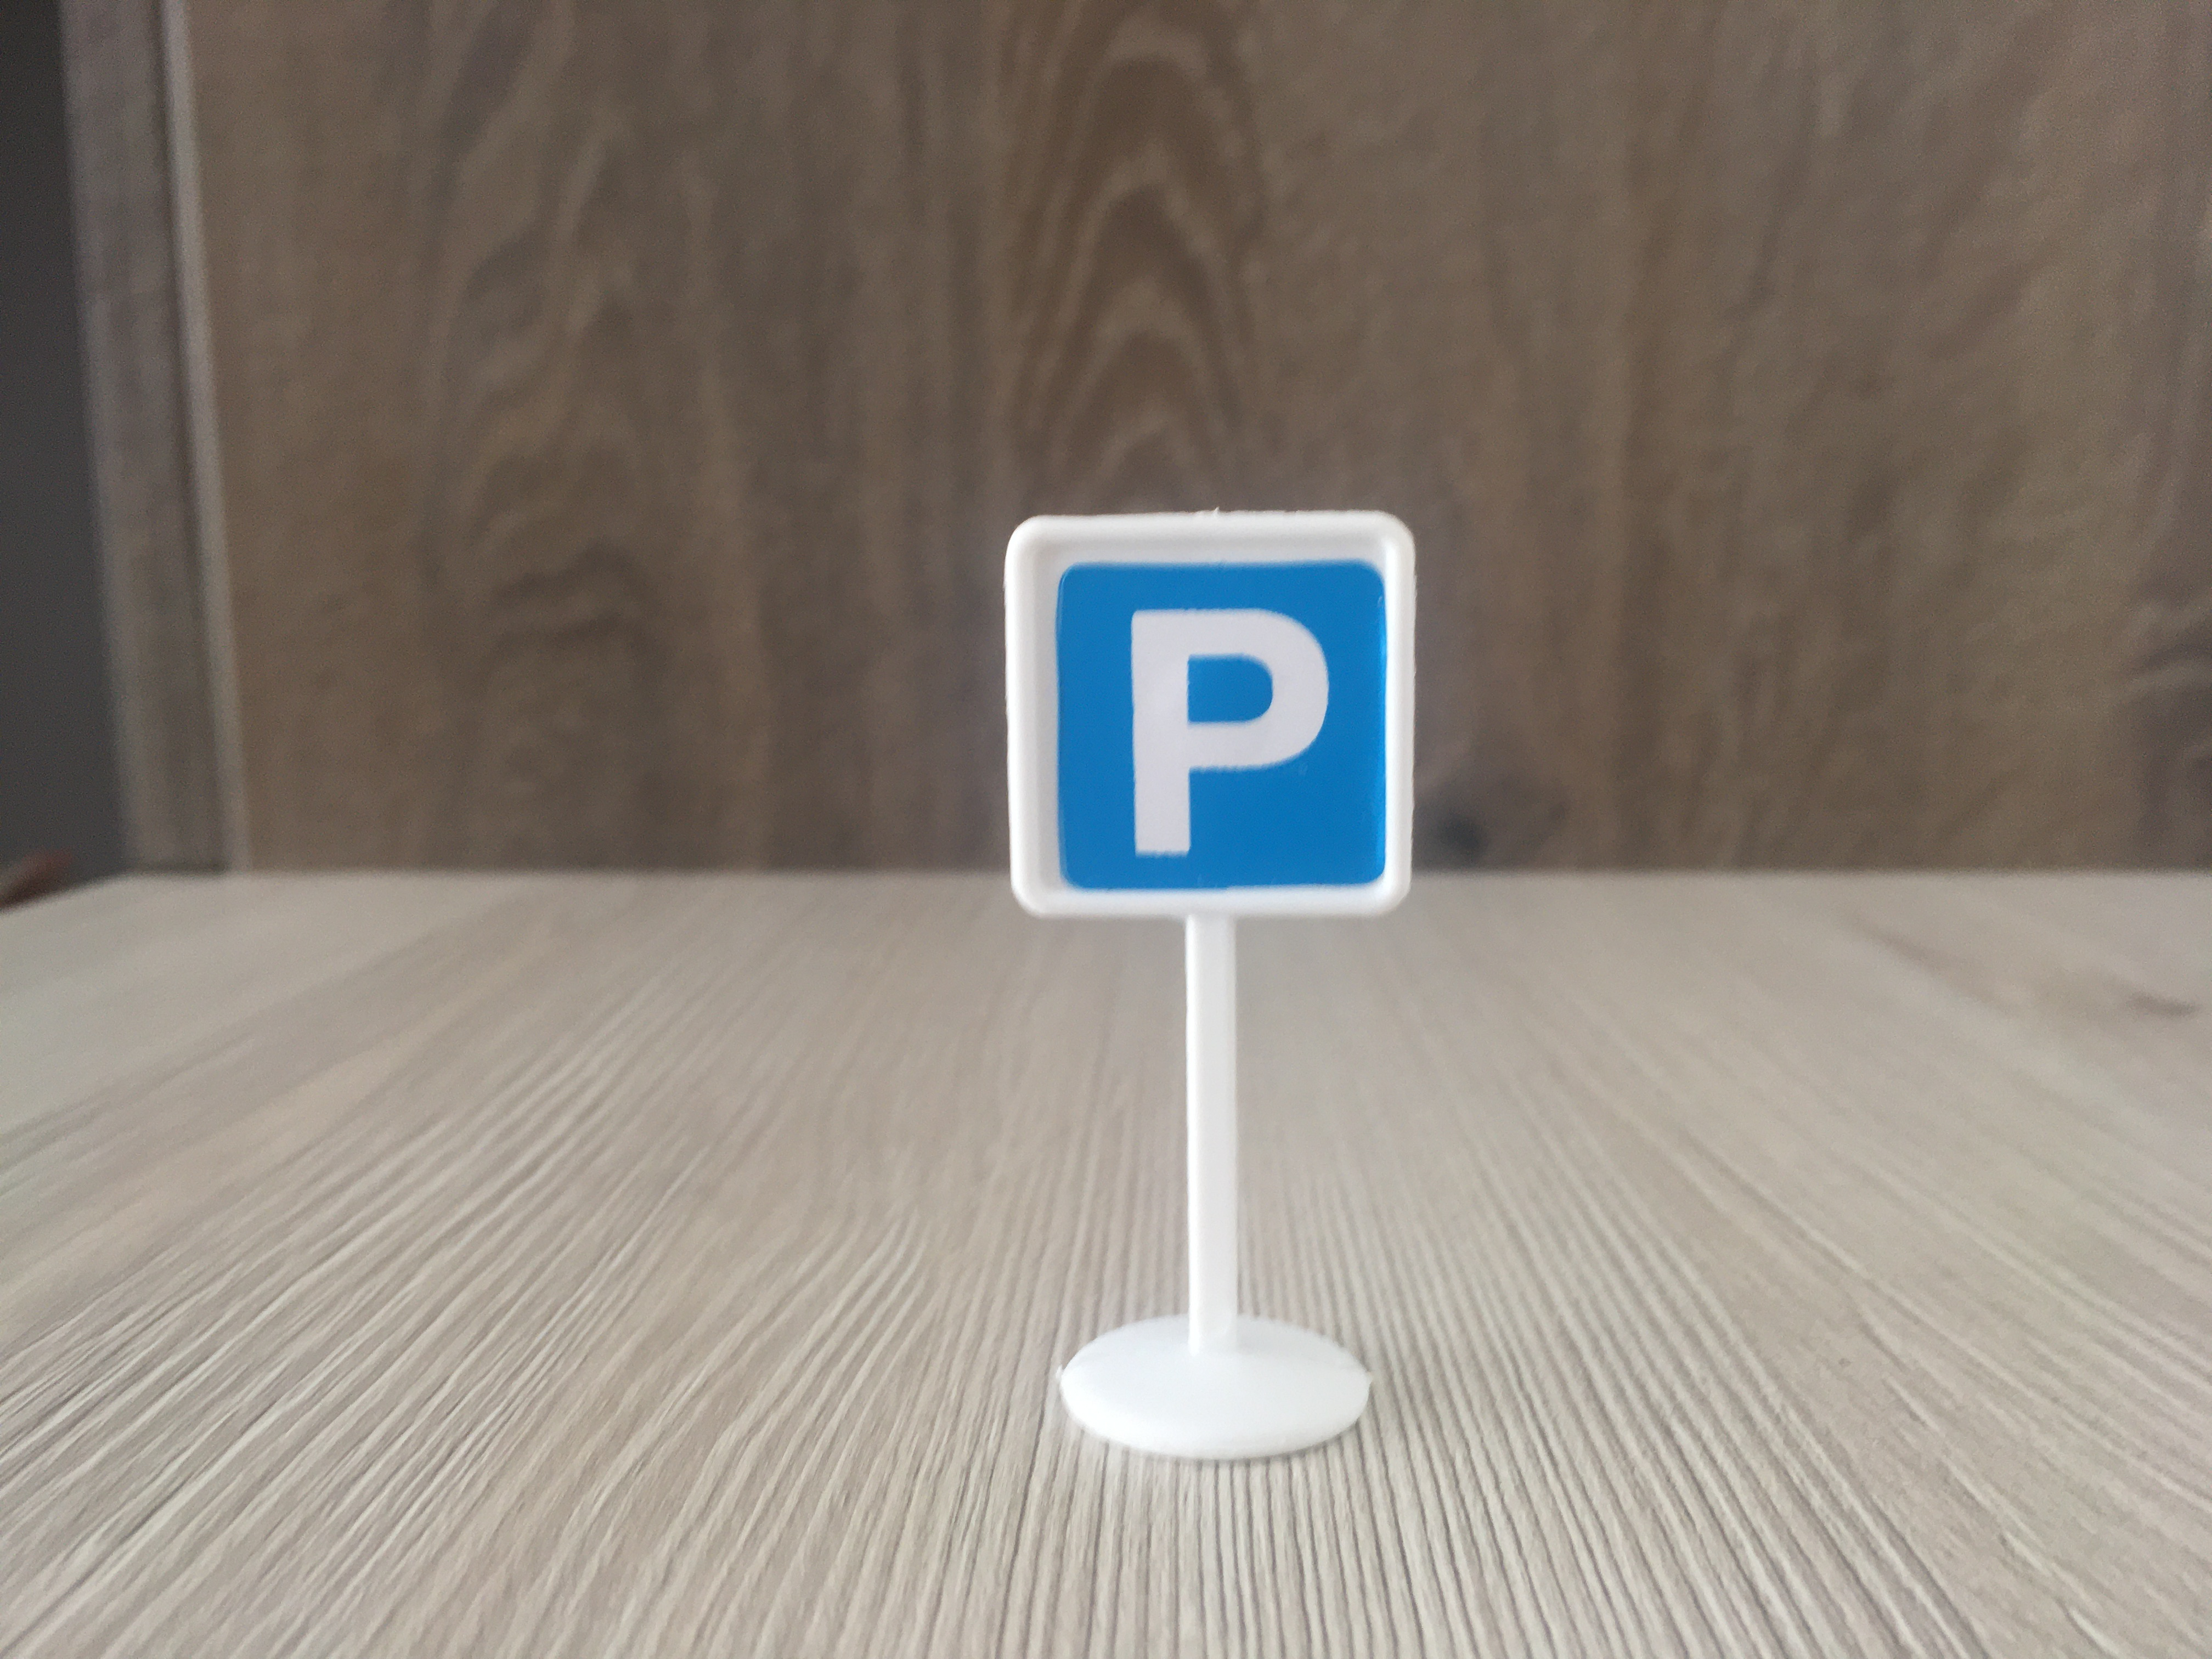parking: (991, 514, 1420, 929)
